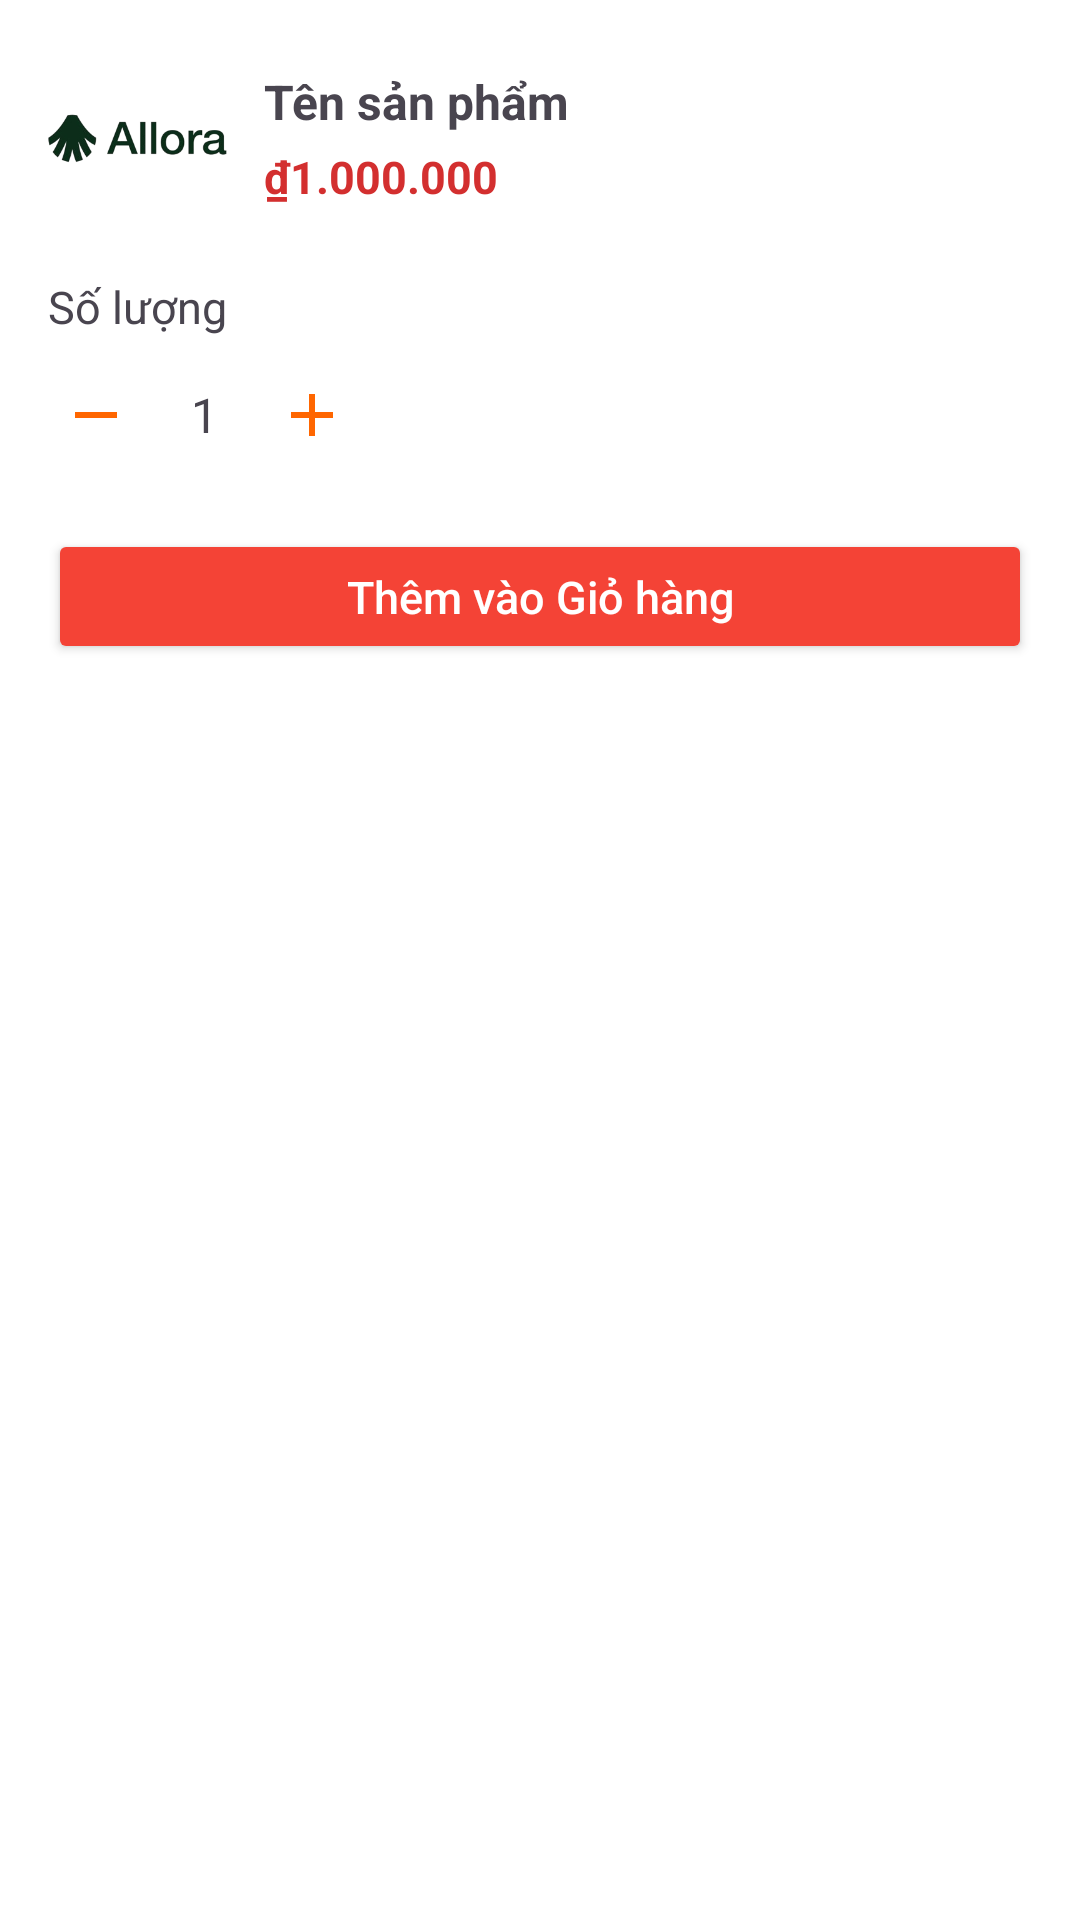

Named icons in this screenshot (1080px×1920px) and their centers, [x,y]:
plus: [312,415]
